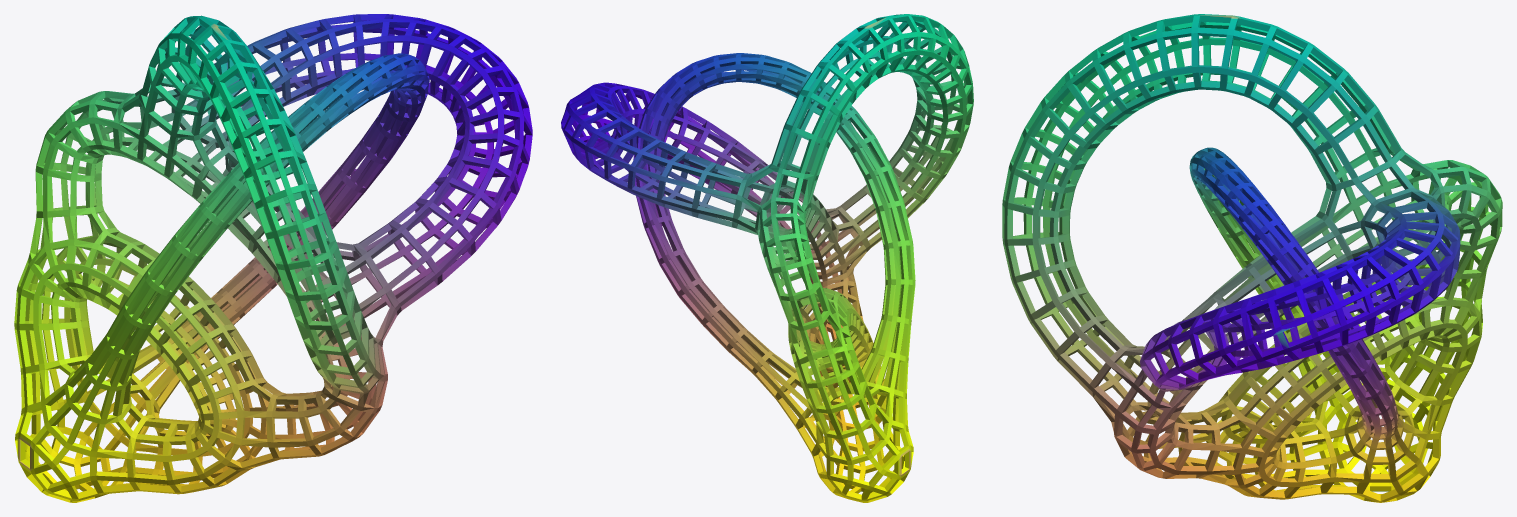
File: PM3D_toto.OBJ
The picture shows the model from 3 angles, left to right: view 1: azimuth 30°, elevation 25°; view 2: azimuth 150°, elevation 25°; view 3: azimuth 270°, elevation 25°; orthographic projection. The views are drawn at different scales.
Parts seen in each view (by area): view 1: Group28551; view 2: Group28551; view 3: Group28551.
Part boxes in pixels (x1,y1,x2,y2): Group28551: (14,14,532,502); Group28551: (561,14,973,502); Group28551: (1002,14,1502,502).
Size of the model in its own units: 11.94 by 13.03 by 11.55.
1 material, 1 textured.
